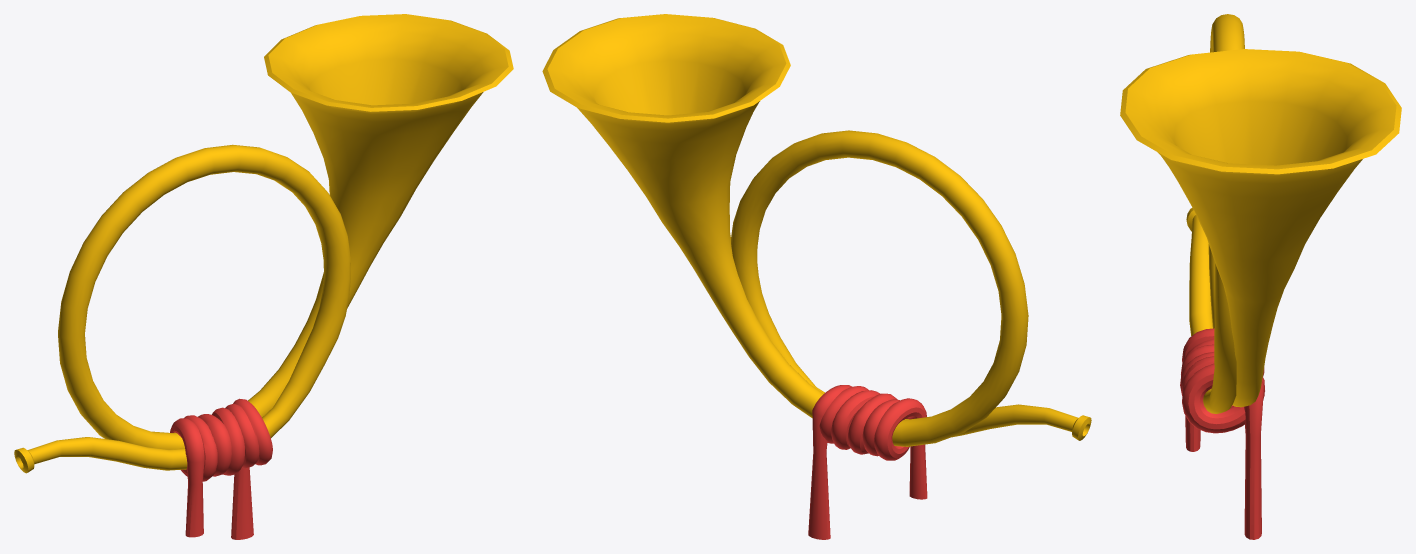
File: postal_horn.fbx
The picture shows the model from 3 angles, left to right: view 1: azimuth 30°, elevation 25°; view 2: azimuth 150°, elevation 25°; view 3: azimuth 270°, elevation 25°; orthographic projection. The views are drawn at different scales.
Visible parts, largest first — view 1: Cube.819; view 2: Cube.819; view 3: Cube.819.
Boxes of the visible parts, box(x1,y1,x2,y2) form: Cube.819: box(14, 14, 513, 539); Cube.819: box(542, 14, 1091, 539); Cube.819: box(1120, 14, 1401, 539).
Size of the model in its own units: 236 by 198 by 98.3.
Materials: 1 (1 with a texture image).
